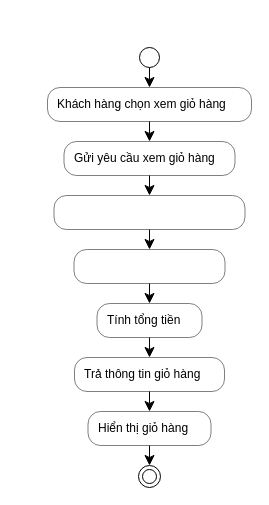
This 269x505 diagram has some shape labels left out. The shapes that lost their labels are listed below. From the top down, each one's box as (x1, y1, x2, y2) in pixels, then its label:
(53, 195, 245, 229): GioHangService xử lý yêu cầu
(73, 249, 225, 283): Lấy thông tin giỏ hàng
